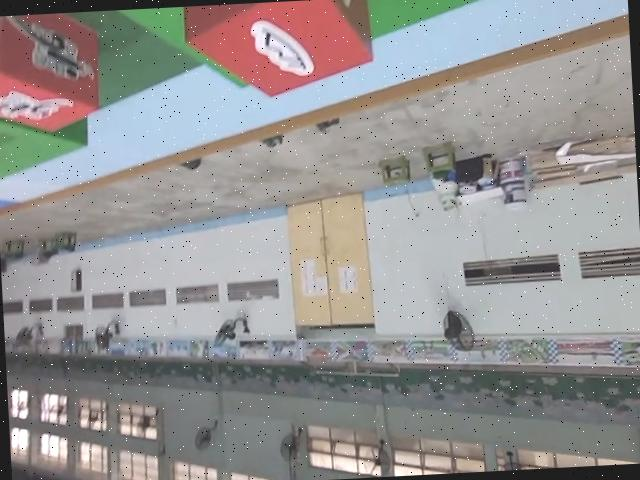R1: (0, 11, 102, 135)
R2 Real: (183, 0, 373, 102)
